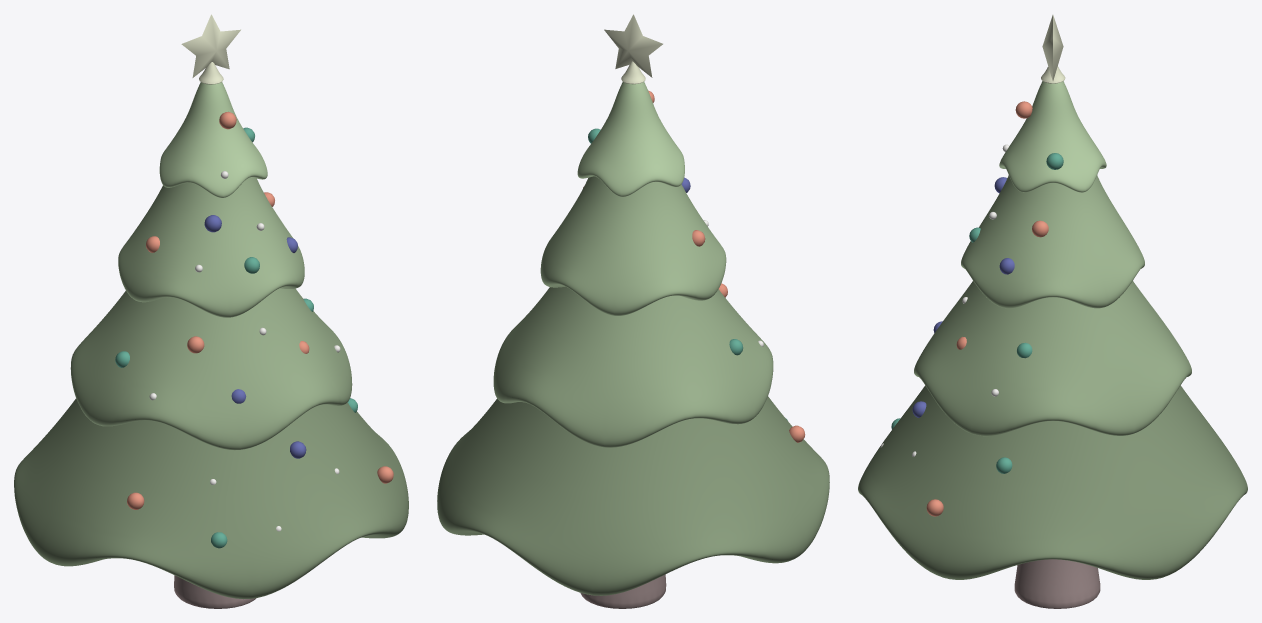
File: tree_decorated_2.glb
The picture shows the model from 3 angles, left to right: view 1: azimuth 30°, elevation 25°; view 2: azimuth 150°, elevation 25°; view 3: azimuth 270°, elevation 25°; orthographic projection.
Visible parts, largest first — view 1: Null.1, Extrude, Cylinder.1; view 2: Null.1, Extrude, Cylinder.1; view 3: Null.1, Cylinder.1, Extrude.
Boxes of the visible parts, x1=… form: Null.1: x1=14, y1=82, x2=408, y2=599; Extrude: x1=181, y1=14, x2=240, y2=77; Cylinder.1: x1=174, y1=575, x2=256, y2=608; Null.1: x1=437, y1=82, x2=829, y2=595; Extrude: x1=604, y1=14, x2=662, y2=77; Cylinder.1: x1=580, y1=574, x2=666, y2=608; Null.1: x1=858, y1=81, x2=1247, y2=579; Cylinder.1: x1=1014, y1=559, x2=1100, y2=608; Extrude: x1=1042, y1=15, x2=1063, y2=80.
Bounding box in the file's own units: 5.4 × 8.79 × 5.41.
